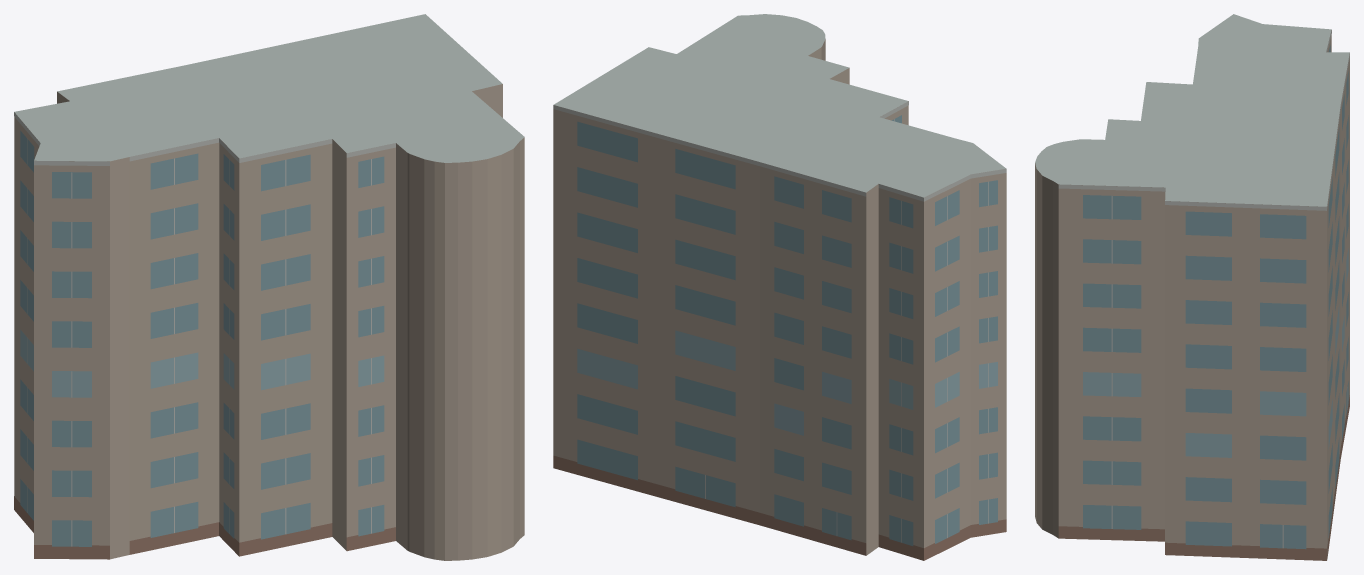
The model's file is survey-upis-32517647.glb.
The picture shows the model from 3 angles, left to right: view 1: azimuth 30°, elevation 25°; view 2: azimuth 150°, elevation 25°; view 3: azimuth 270°, elevation 25°; orthographic projection. The views are drawn at different scales.
Visible parts, largest first — view 1: survey-upis-32517647.tmp; view 2: survey-upis-32517647.tmp; view 3: survey-upis-32517647.tmp.
Boxes of the visible parts, <box> form: survey-upis-32517647.tmp: <box>14,14,524,560</box>; survey-upis-32517647.tmp: <box>553,14,1006,560</box>; survey-upis-32517647.tmp: <box>1035,14,1349,560</box>.
Size of the model in its own units: 24.76 by 21.2 by 17.09.
